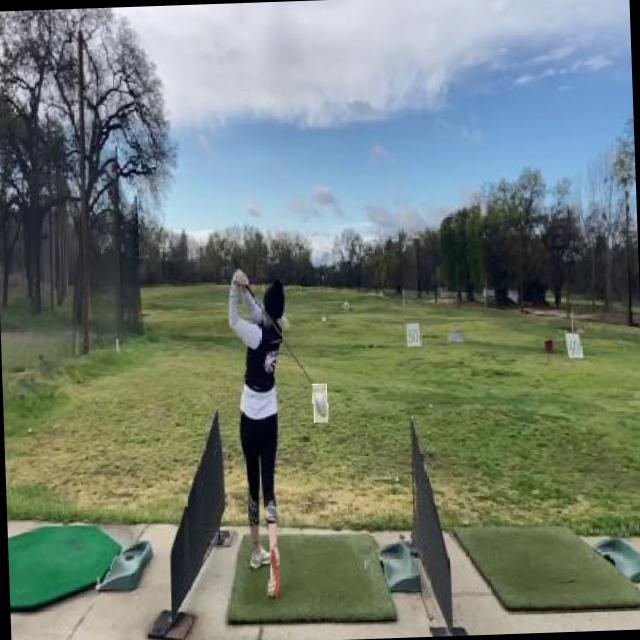club head: (312, 383, 328, 422)
